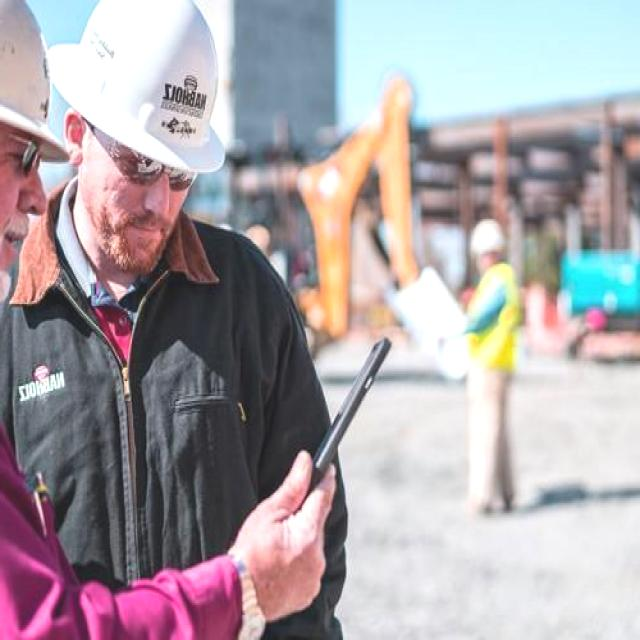face_nomask: (77, 128, 202, 266)
glasses: (105, 136, 203, 193), (10, 134, 46, 187)
hand_noglove: (223, 461, 344, 620)
head_helmet: (59, 2, 252, 150)
person: (38, 1, 351, 640)
